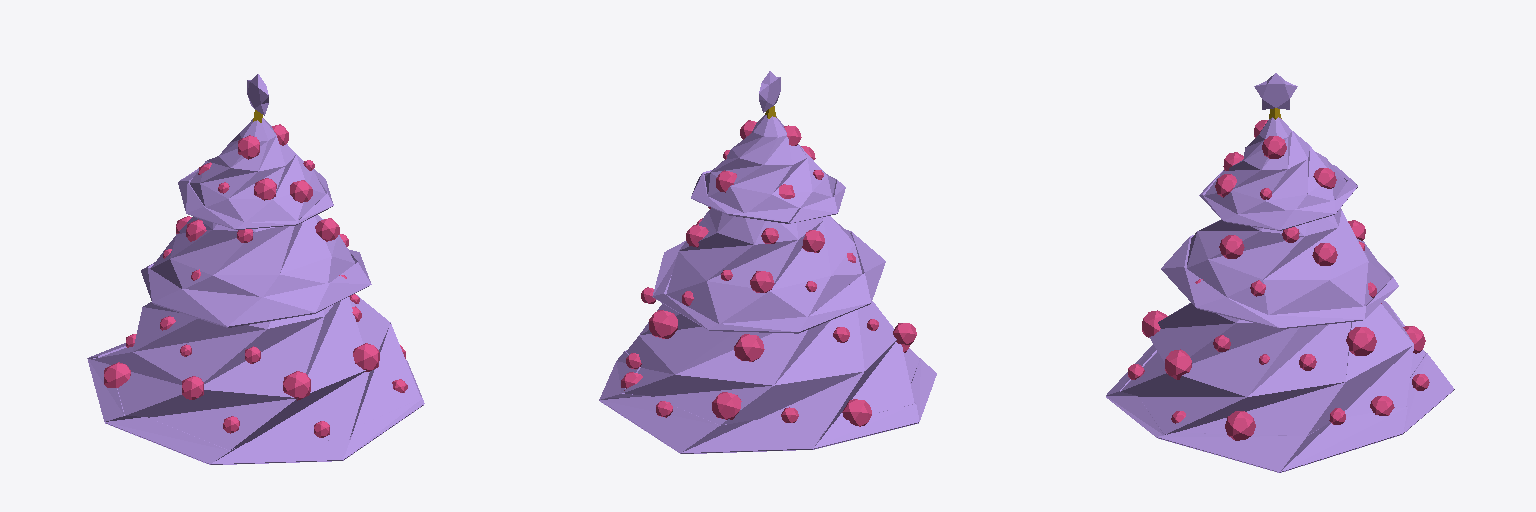
The model's file is Tree_01.obj.
3 views of the same model, side by side, from view 1: azimuth 30°, elevation 25°; view 2: azimuth 150°, elevation 25°; view 3: azimuth 270°, elevation 25° (orthographic).
Parts seen in each view (by area): view 1: Cone001, Cone002, Cone003, Object, Object002, Object004, Cylinder005, Hedra043, Hedra024, Hedra037; view 2: Cone001, Cone002, Object, Cone003, Object002, Object004, Hedra003, Hedra035, Hedra010, Cylinder005, Hedra037, Object008; view 3: Cone001, Cone002, Object, Cone003, Object002, Object004, Cylinder005, Hedra001, Hedra003, Hedra024.
Boxes of the visible parts, <box> form: Cone001: <box>91,295,423,464</box>; Cone002: <box>150,215,354,296</box>; Cone003: <box>190,118,325,221</box>; Object: <box>87,343,424,464</box>; Object002: <box>141,249,371,327</box>; Object004: <box>178,169,333,229</box>; Cylinder005: <box>247,74,268,115</box>; Hedra043: <box>283,371,310,400</box>; Hedra024: <box>353,343,379,371</box>; Hedra037: <box>104,362,130,387</box>; Cone001: <box>600,301,919,453</box>; Cone002: <box>666,208,861,323</box>; Object: <box>599,350,936,453</box>; Cone003: <box>705,115,835,212</box>; Object002: <box>652,230,885,333</box>; Object004: <box>691,170,845,223</box>; Hedra003: <box>649,310,677,338</box>; Hedra035: <box>734,334,764,361</box>; Hedra010: <box>712,392,741,419</box>; Cylinder005: <box>759,71,780,112</box>; Hedra037: <box>842,399,871,426</box>; Object008: <box>729,207,799,223</box>; Cone001: <box>1106,301,1452,472</box>; Cone002: <box>1187,208,1389,314</box>; Object: <box>1106,344,1454,472</box>; Cone003: <box>1204,117,1346,213</box>; Object002: <box>1161,235,1398,328</box>; Object004: <box>1199,171,1357,230</box>; Cylinder005: <box>1254,73,1297,109</box>; Hedra001: <box>1225,411,1255,440</box>; Hedra003: <box>1346,327,1376,355</box>; Hedra024: <box>1165,349,1191,379</box>.
Bounding box in the file's own units: 29.19 × 33.8 × 29.11.